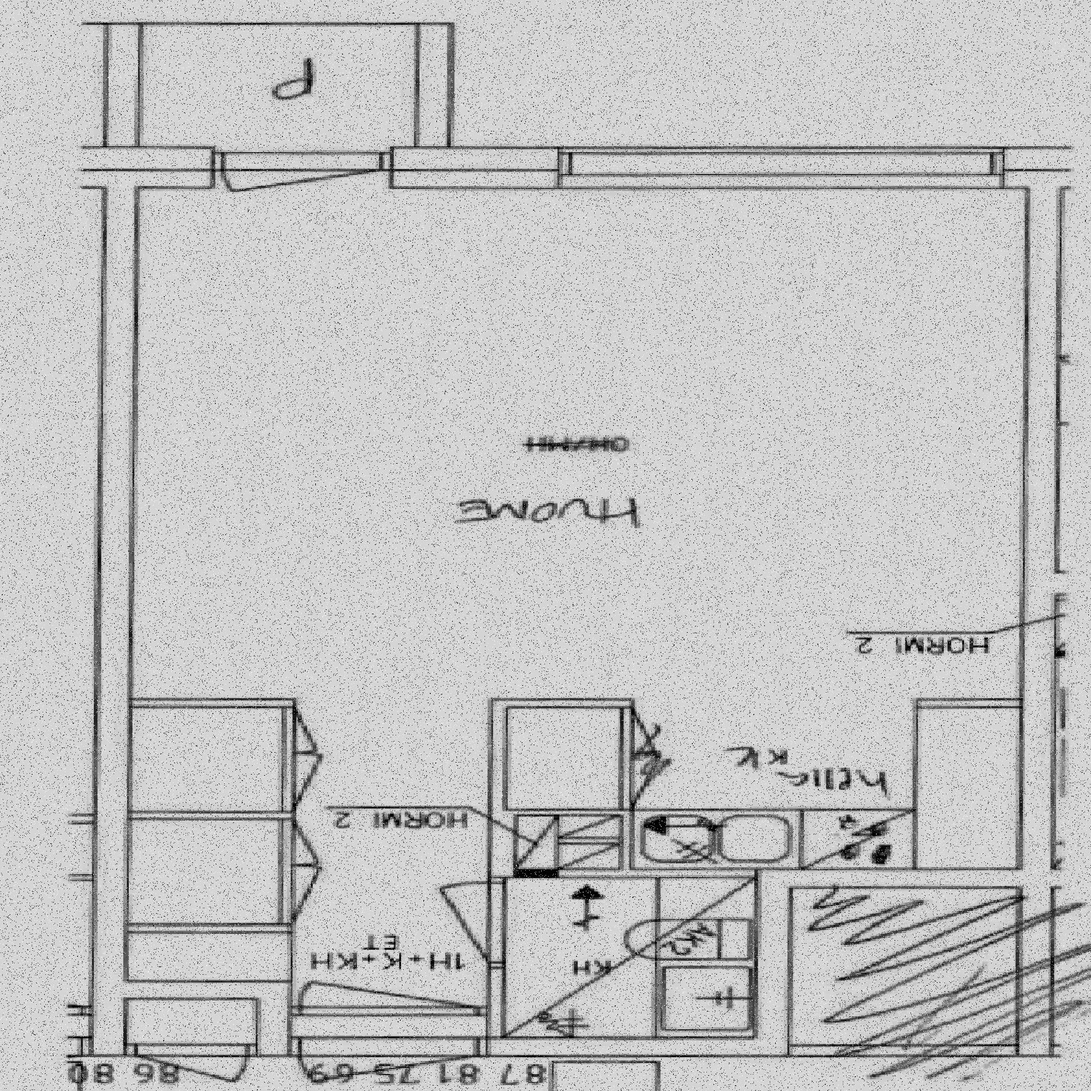wall: (98, 147, 133, 993), (1022, 146, 1061, 886), (391, 146, 1061, 188), (490, 808, 632, 878), (260, 1038, 790, 1056), (756, 868, 789, 1055), (100, 23, 137, 188), (757, 868, 1061, 886), (100, 147, 212, 188), (418, 22, 452, 147), (212, 152, 392, 170), (490, 699, 507, 878), (98, 979, 288, 994), (490, 878, 503, 1056), (260, 979, 288, 1056), (99, 699, 292, 708), (490, 699, 634, 708), (632, 869, 757, 878)
